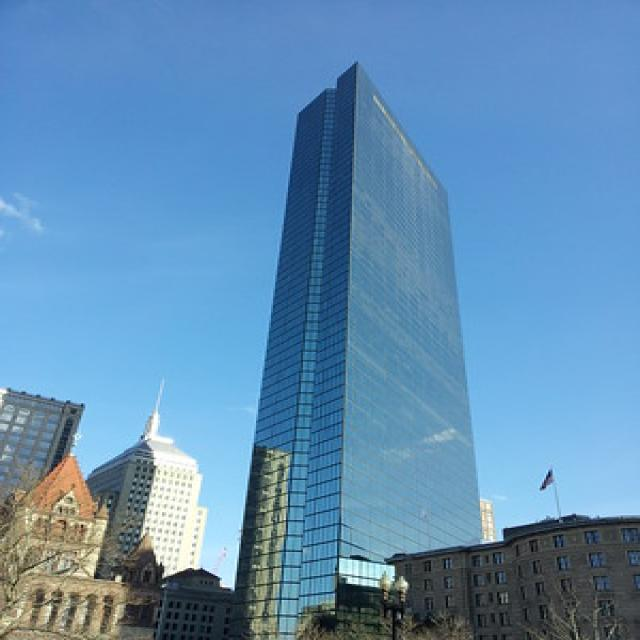building: (229, 54, 490, 640)
